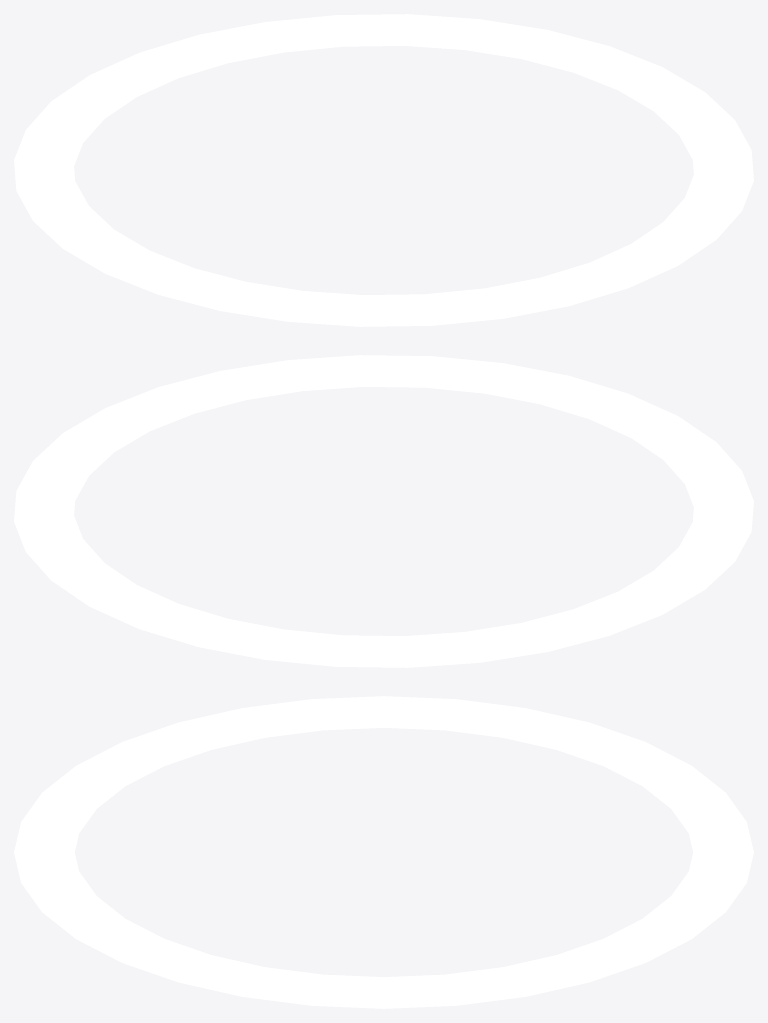
The model's file is SM_VFX_ShockRing_HQ.glb.
The picture shows the model from 3 angles, top to bottom: view 1: azimuth 30°, elevation 25°; view 2: azimuth 150°, elevation 25°; view 3: azimuth 270°, elevation 25°; orthographic projection.
Parts seen in each view (by area): view 1: SM_VFX_ShockRing_HQ; view 2: SM_VFX_ShockRing_HQ; view 3: SM_VFX_ShockRing_HQ.
Part boxes in pixels (x1,y1,x2,y2): SM_VFX_ShockRing_HQ: [14, 14, 753, 326]; SM_VFX_ShockRing_HQ: [14, 355, 753, 667]; SM_VFX_ShockRing_HQ: [14, 696, 753, 1008].
Bounding box in the file's own units: 2 × 0.04 × 2.
Materials: 1 (1 with a texture image).
